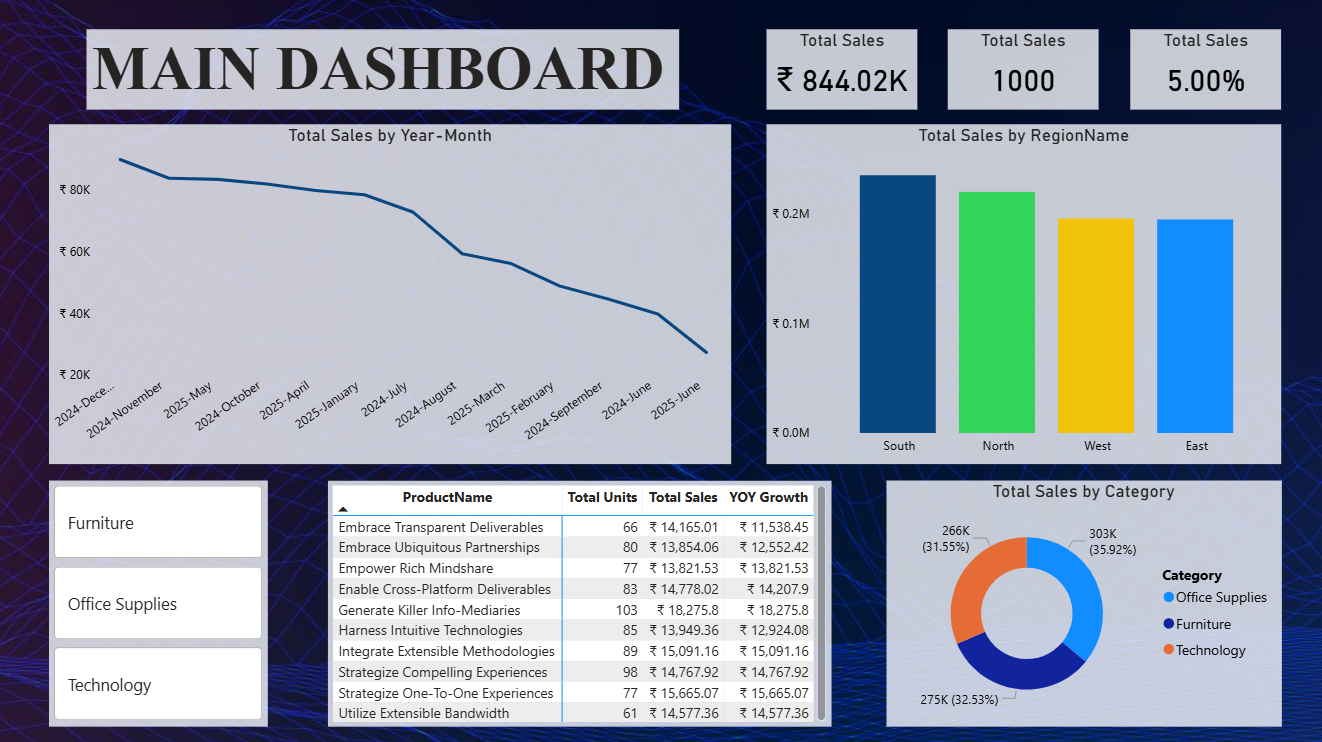

Layout of this report page (visuals, bound fields, positions):
{"tool":"powerbi","page":{"name":"MAIN DASHBOARD","canvas":[1280,720],"ordinal":0},"visuals":[{"type":"card","title":"Total Sales","fields":{"Values":["Customer_Dim.Total Sales"]},"box":[740.8,30.2,146,77.2],"z":0},{"type":"card","title":"Total Sales","fields":{"Values":["Customer_Dim.Total Orders"]},"box":[915.7,30.2,146,77.2],"z":1000},{"type":"card","title":"Total Sales","fields":{"Values":["Customer_Dim.Return Rate"]},"box":[1091.8,30.2,146,77.2],"z":2000},{"type":"lineChart","fields":{"Category":["Date_Dim.Year-Month"],"Y":["Customer_Dim.Total Sales"]},"box":[48.3,121.9,658.7,328.2],"z":3000},{"type":"clusteredColumnChart","fields":{"Category":["Region_Dim.RegionName"],"Y":["Customer_Dim.Total Sales"]},"box":[740.8,121.9,497.1,328.2],"z":4000},{"type":"donutChart","fields":{"Category":["Product_Dim.Category"],"Y":["Customer_Dim.Total Sales"]},"box":[856.6,465.7,381.2,237.7],"z":5000},{"type":"pivotTable","fields":{"Rows":["Product_Dim.ProductName"],"Values":["Customer_Dim.Total Units","Customer_Dim.Total Sales","Customer_Dim.YOY Growth"]},"box":[317.3,465.7,486.2,237.7],"z":6000},{"type":"textbox","box":[84.5,30.2,571.9,77.2],"z":7000},{"type":"advancedSlicerVisual","fields":{"Values":["Product_Dim.Category"]},"box":[48.3,465.7,211.1,237.7],"z":7001}]}

Visuals, with their boxes in screenshot pixels (x1, y1, x2, y2), scaled from the page's 1280x720 canvas onto the 1322x742 screenshot:
"Total Sales" card: bbox=[765, 31, 916, 111]
"Total Sales" card: bbox=[946, 31, 1097, 111]
"Total Sales" card: bbox=[1128, 31, 1278, 111]
lineChart - Date_Dim.Year-Month x Customer_Dim.Total Sales: bbox=[50, 126, 730, 464]
clusteredColumnChart - Region_Dim.RegionName x Customer_Dim.Total Sales: bbox=[765, 126, 1279, 464]
donutChart - Product_Dim.Category x Customer_Dim.Total Sales: bbox=[885, 480, 1278, 725]
pivotTable - Product_Dim.ProductName x Customer_Dim.Total Units: bbox=[328, 480, 830, 725]
textbox: bbox=[87, 31, 678, 111]
advancedSlicerVisual - Product_Dim.Category: bbox=[50, 480, 268, 725]
